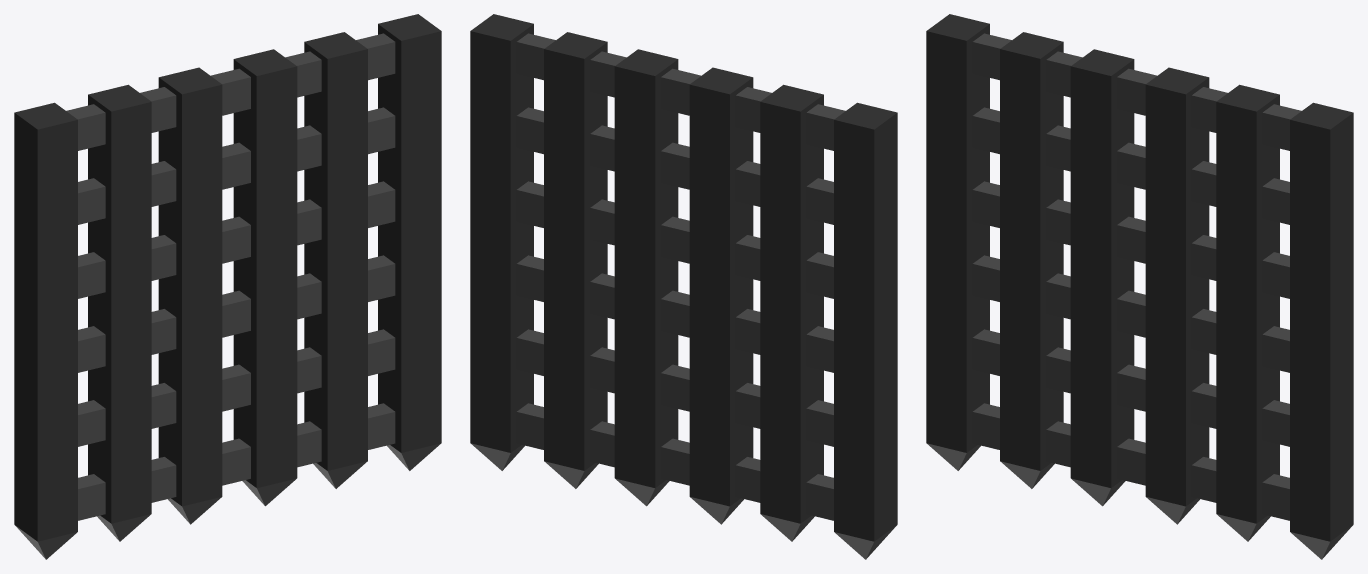
File: Rampart_Portcullis_01.fbx
3 renders of one model, left to right at view 1: azimuth 30°, elevation 25°; view 2: azimuth 150°, elevation 25°; view 3: azimuth 330°, elevation 25°, orthographic.
Parts seen in each view (by area): view 1: Rampart_Portcullis_01; view 2: Rampart_Portcullis_01; view 3: Rampart_Portcullis_01.
Boxes of the visible parts, x1=… form: Rampart_Portcullis_01: x1=14, y1=14, x2=441, y2=559; Rampart_Portcullis_01: x1=470, y1=14, x2=897, y2=559; Rampart_Portcullis_01: x1=926, y1=14, x2=1353, y2=559.
Bounding box in the file's own units: 400 × 420 × 40.
Materials: 1 (1 with a texture image).
